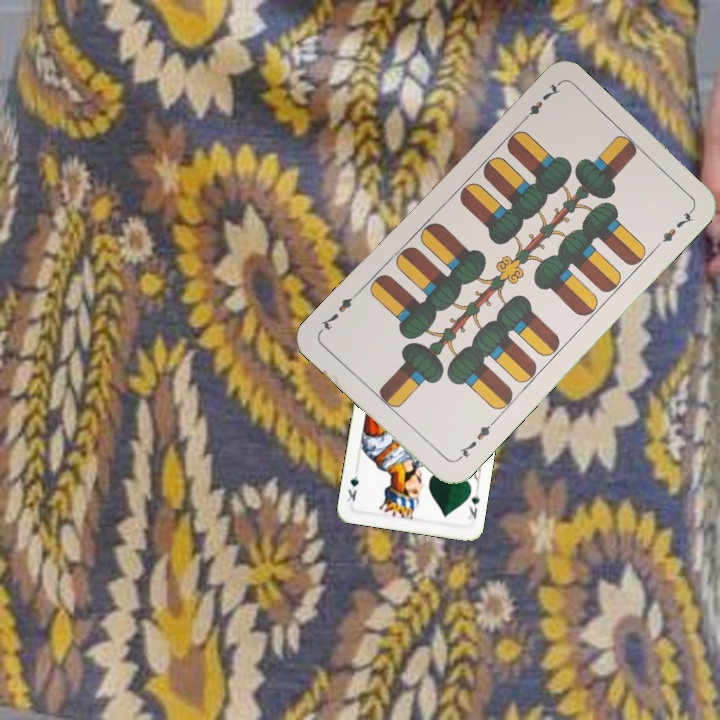E7: (516, 80, 563, 126), (452, 417, 497, 464)
GK: (464, 489, 482, 522)
